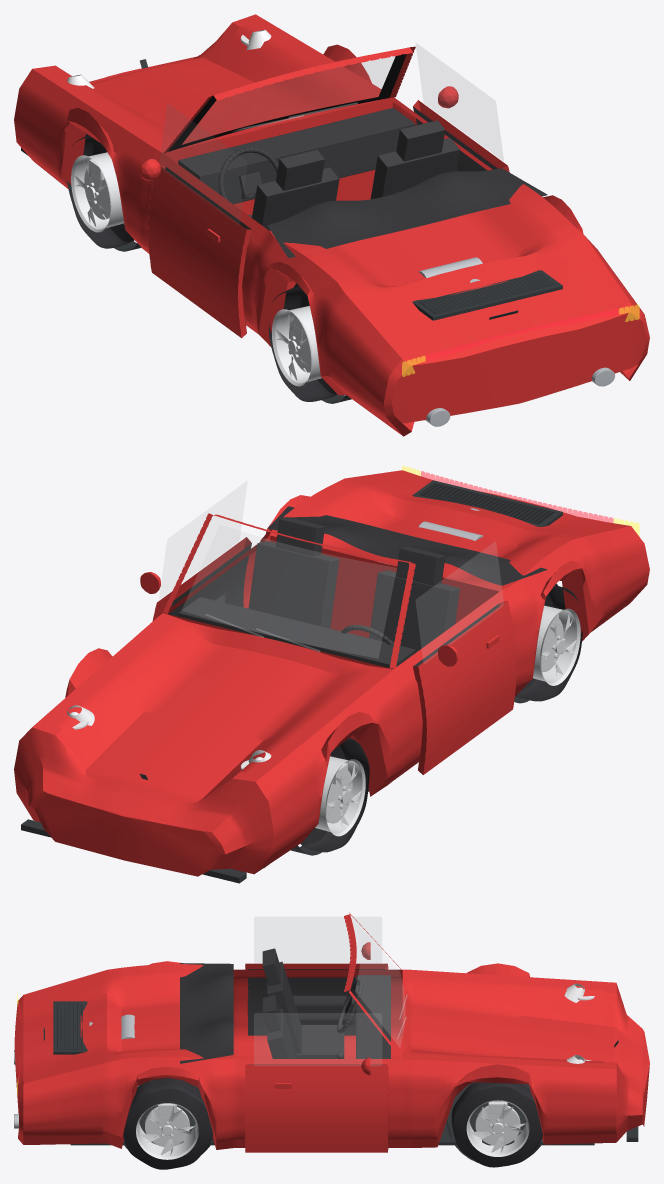
File: vehicle.opt.glb
3 views of the same model, one above another, from view 1: azimuth 30°, elevation 25°; view 2: azimuth 150°, elevation 25°; view 3: azimuth 270°, elevation 25° (orthographic). The views are drawn at different scales.
Parts seen in each view (by area): view 1: BODY_Porsche_993_Unibody, GLASS_Porsche_993_Greenhouse, INTERIOR_Porsche_993_Cockpit, DOOR_FL_Porsche_993, DOOR_FR_Porsche_993, WHEEL_FL_Cup2, WHEEL_RL_Cup2, CHASSIS_Porsche_993_Underbody_and_Aero, LIGHTING_Porsche_993_Taillamps, POWERTRAIN_M64_Boxer_Flat_Six, INTERIOR_Porsche_993_SteeringWheel, LIGHTING_Porsche_993_Headlamps; view 2: BODY_Porsche_993_Unibody, GLASS_Porsche_993_Greenhouse, INTERIOR_Porsche_993_Cockpit, DOOR_FL_Porsche_993, DOOR_FR_Porsche_993, WHEEL_FL_Cup2, WHEEL_RL_Cup2, CHASSIS_Porsche_993_Underbody_and_Aero, LIGHTING_Porsche_993_Taillamps, LIGHTING_Porsche_993_Headlamps; view 3: BODY_Porsche_993_Unibody, DOOR_FR_Porsche_993, DOOR_FL_Porsche_993, GLASS_Porsche_993_Greenhouse, INTERIOR_Porsche_993_Cockpit, WHEEL_RR_Cup2, WHEEL_FR_Cup2, CHASSIS_Porsche_993_Underbody_and_Aero, INTERIOR_Porsche_993_SteeringWheel, LIGHTING_Porsche_993_Headlamps, POWERTRAIN_M64_Boxer_Flat_Six.
Boxes of the visible parts, left/top/right/bottom form: BODY_Porsche_993_Unibody: left=14, top=14, right=649, bottom=436; GLASS_Porsche_993_Greenhouse: left=163, top=46, right=547, bottom=257; INTERIOR_Porsche_993_Cockpit: left=178, top=108, right=459, bottom=230; DOOR_FL_Porsche_993: left=140, top=104, right=251, bottom=338; DOOR_FR_Porsche_993: left=413, top=43, right=509, bottom=172; WHEEL_FL_Cup2: left=67, top=135, right=134, bottom=248; WHEEL_RL_Cup2: left=269, top=286, right=337, bottom=401; CHASSIS_Porsche_993_Underbody_and_Aero: left=21, top=59, right=562, bottom=403; LIGHTING_Porsche_993_Taillamps: left=402, top=304, right=639, bottom=376; POWERTRAIN_M64_Boxer_Flat_Six: left=418, top=257, right=615, bottom=426; INTERIOR_Porsche_993_SteeringWheel: left=218, top=147, right=278, bottom=217; LIGHTING_Porsche_993_Headlamps: left=67, top=30, right=271, bottom=88; BODY_Porsche_993_Unibody: left=14, top=470, right=649, bottom=876; GLASS_Porsche_993_Greenhouse: left=163, top=506, right=547, bottom=668; INTERIOR_Porsche_993_Cockpit: left=178, top=517, right=459, bottom=668; DOOR_FL_Porsche_993: left=413, top=542, right=516, bottom=774; DOOR_FR_Porsche_993: left=140, top=482, right=251, bottom=620; WHEEL_FL_Cup2: left=300, top=738, right=369, bottom=852; WHEEL_RL_Cup2: left=515, top=585, right=582, bottom=701; CHASSIS_Porsche_993_Underbody_and_Aero: left=21, top=480, right=562, bottom=883; LIGHTING_Porsche_993_Taillamps: left=402, top=466, right=639, bottom=536; LIGHTING_Porsche_993_Headlamps: left=67, top=705, right=271, bottom=769; BODY_Porsche_993_Unibody: left=14, top=961, right=649, bottom=1149; DOOR_FR_Porsche_993: left=245, top=1013, right=388, bottom=1152; DOOR_FL_Porsche_993: left=245, top=917, right=388, bottom=1035; GLASS_Porsche_993_Greenhouse: left=180, top=912, right=407, bottom=1063; INTERIOR_Porsche_993_Cockpit: left=262, top=948, right=390, bottom=1058; WHEEL_RR_Cup2: left=123, top=1078, right=212, bottom=1169; WHEEL_FR_Cup2: left=451, top=1082, right=542, bottom=1167; CHASSIS_Porsche_993_Underbody_and_Aero: left=43, top=1001, right=638, bottom=1166; INTERIOR_Porsche_993_SteeringWheel: left=337, top=979, right=363, bottom=1033; LIGHTING_Porsche_993_Headlamps: left=564, top=983, right=594, bottom=1063; POWERTRAIN_M64_Boxer_Flat_Six: left=14, top=1014, right=139, bottom=1128.
Size of what is drawn, in the model's own units: 2 by 1.31 by 4.37.
